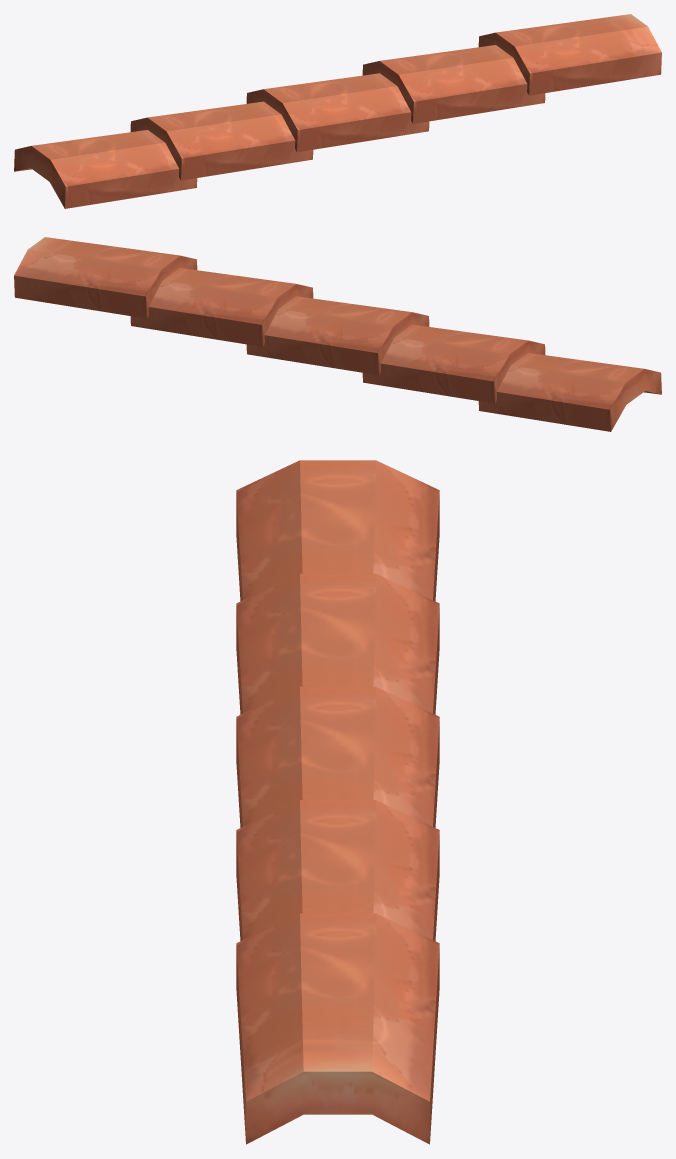
Rendered from TopSeam.fbx.
3 views of the same model, one above another, from view 1: azimuth 30°, elevation 25°; view 2: azimuth 150°, elevation 25°; view 3: azimuth 270°, elevation 25° (orthographic). The views are drawn at different scales.
Visible parts, largest first — view 1: Roof_topSeam; view 2: Roof_topSeam; view 3: Roof_topSeam.
Boxes of the visible parts, bbox=[...] form: Roof_topSeam: bbox=[14, 14, 661, 208]; Roof_topSeam: bbox=[14, 237, 661, 431]; Roof_topSeam: bbox=[236, 460, 439, 1144].
Size of the model in its own units: 2.02 by 0.2962 by 0.1631.
